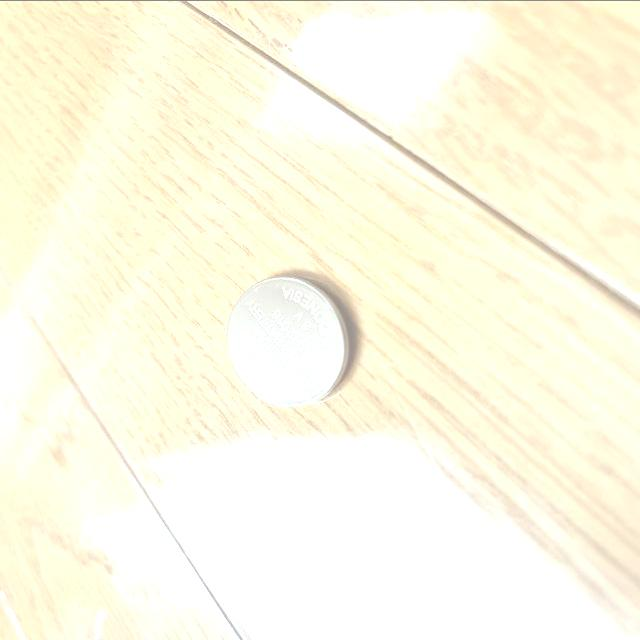COIN: (228, 270, 354, 410)
